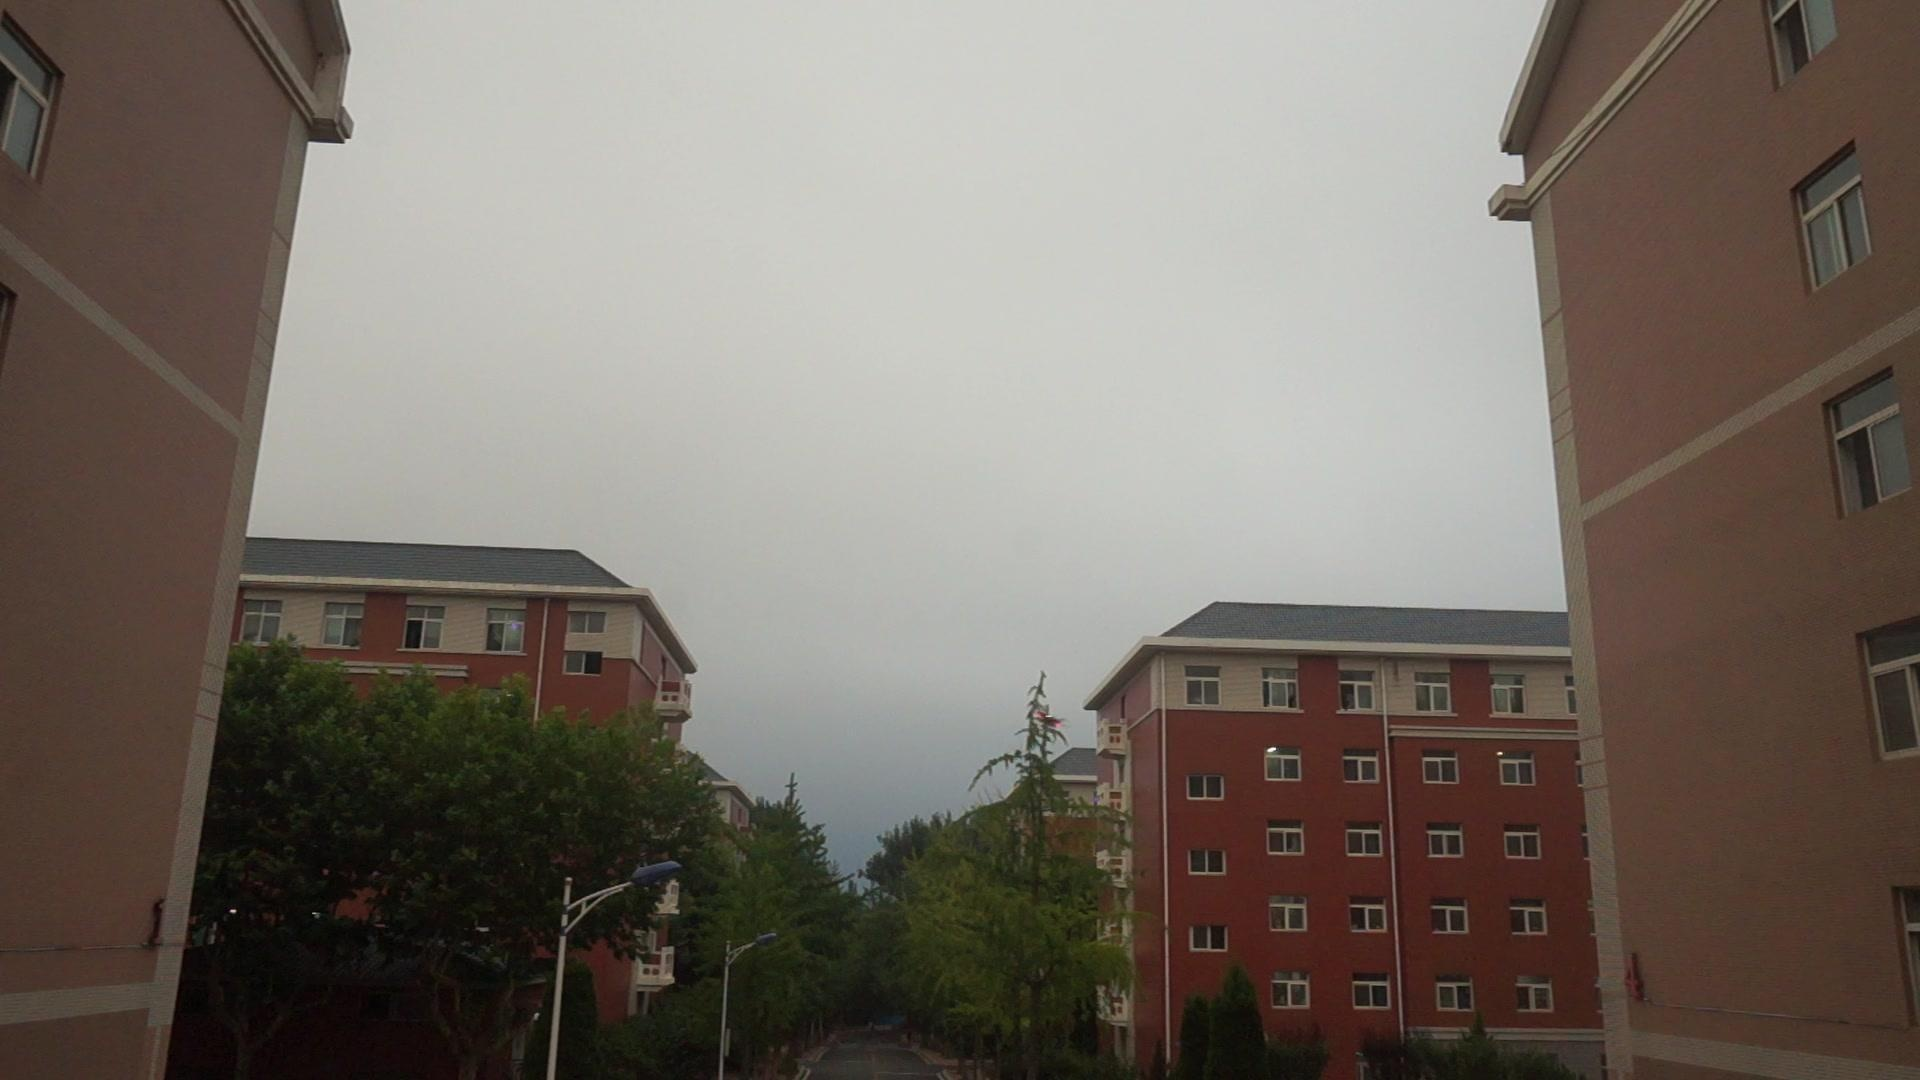UAV: (1033, 712, 1065, 729)
